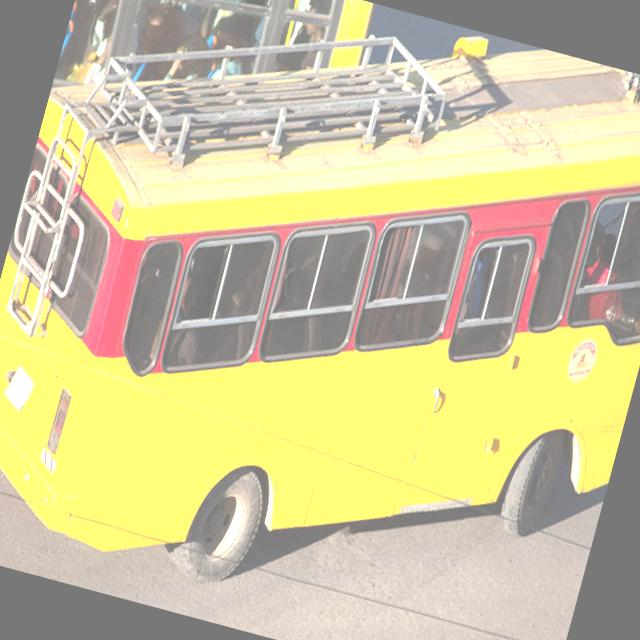Vehicle: (0, 0, 640, 640), (439, 613, 565, 640)
